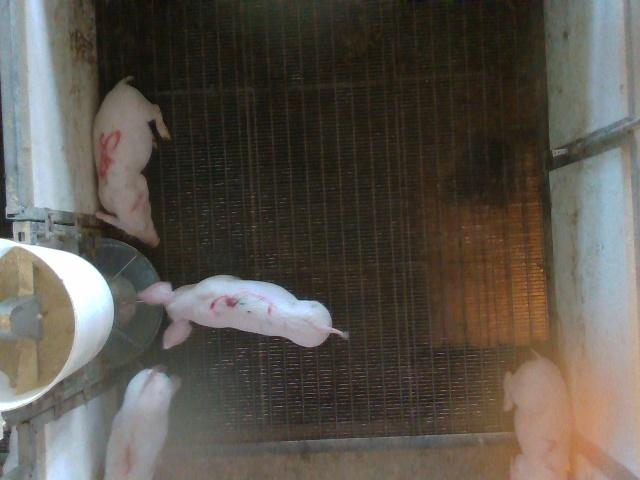pig-1: (105, 368, 181, 479)
pig-2: (504, 352, 571, 478)
pig-3: (140, 275, 349, 349)
pig-5: (94, 76, 170, 246)
